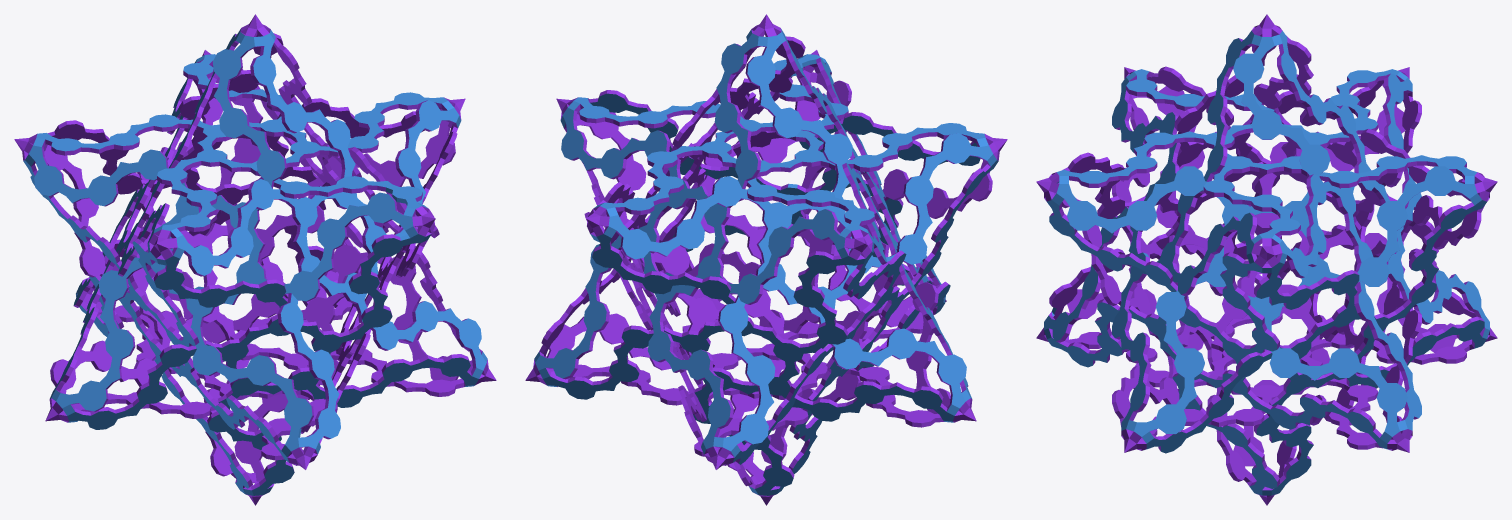
File: StarDodecahedronPolyknot3.glb
3 views of the same model, side by side, from view 1: azimuth 30°, elevation 25°; view 2: azimuth 150°, elevation 25°; view 3: azimuth 270°, elevation 25° (orthographic).
Parts seen in each view (by area): view 1: 3D_ESCHER_B_D_POLYKNOT_41Augmented_Penta_Prism; view 2: 3D_ESCHER_B_D_POLYKNOT_41Augmented_Penta_Prism; view 3: 3D_ESCHER_B_D_POLYKNOT_41Augmented_Penta_Prism.
Part boxes in pixels (x1,y1,x2,y2): 3D_ESCHER_B_D_POLYKNOT_41Augmented_Penta_Prism: (14,14,496,505); 3D_ESCHER_B_D_POLYKNOT_41Augmented_Penta_Prism: (525,14,1007,505); 3D_ESCHER_B_D_POLYKNOT_41Augmented_Penta_Prism: (1036,14,1497,505).
Bounding box in the file's own units: 89.44 × 100 × 85.07.
